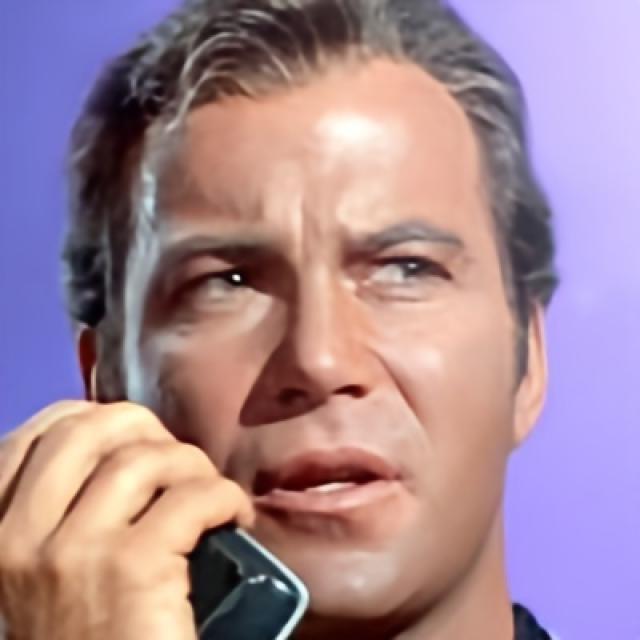disgust: (120, 38, 516, 622)
